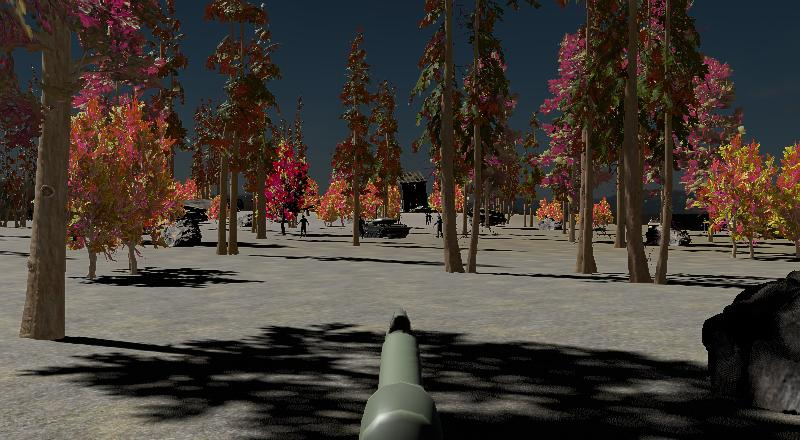Tank: (356, 214, 412, 240)
